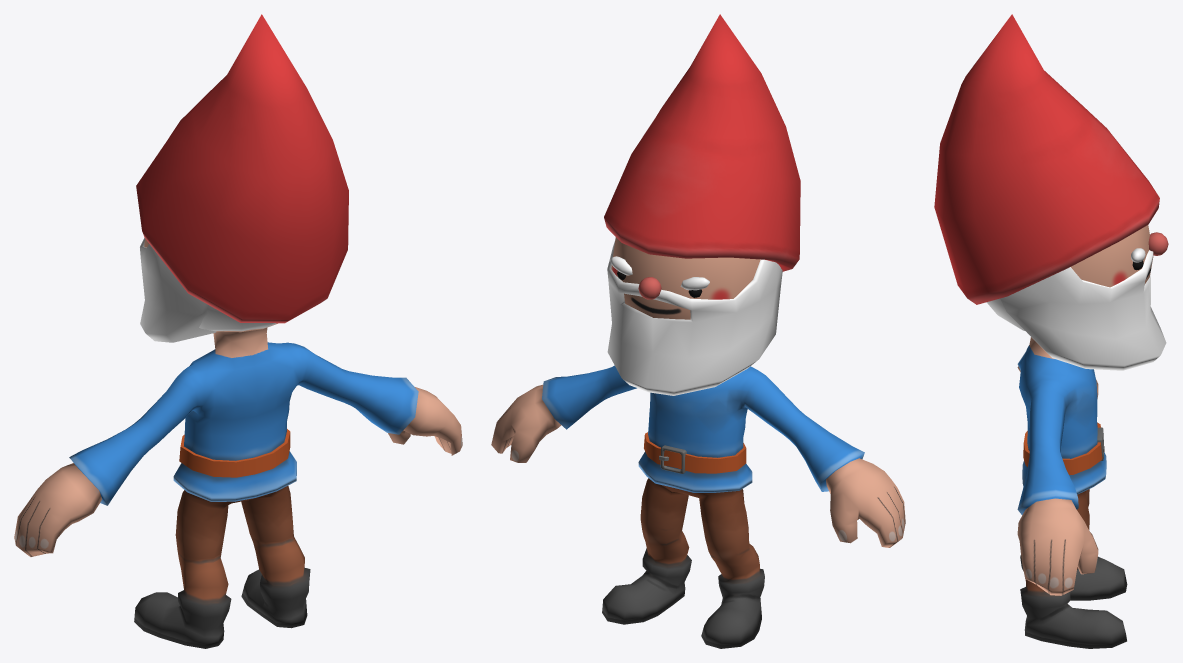
File: mesh_char_47.fbx
The picture shows the model from 3 angles, left to right: view 1: azimuth 30°, elevation 25°; view 2: azimuth 150°, elevation 25°; view 3: azimuth 270°, elevation 25°; orthographic projection. The views are drawn at different scales.
Visible parts, largest first — view 1: mesh_char_47; view 2: mesh_char_47; view 3: mesh_char_47.
Boxes of the visible parts, x1,y1,x2,y2 form: mesh_char_47: [14, 14, 462, 648]; mesh_char_47: [491, 14, 905, 648]; mesh_char_47: [934, 14, 1168, 648].
Bounding box in the file's own units: 8.63 × 11.8 × 4.18.
2 materials, 2 textured.
